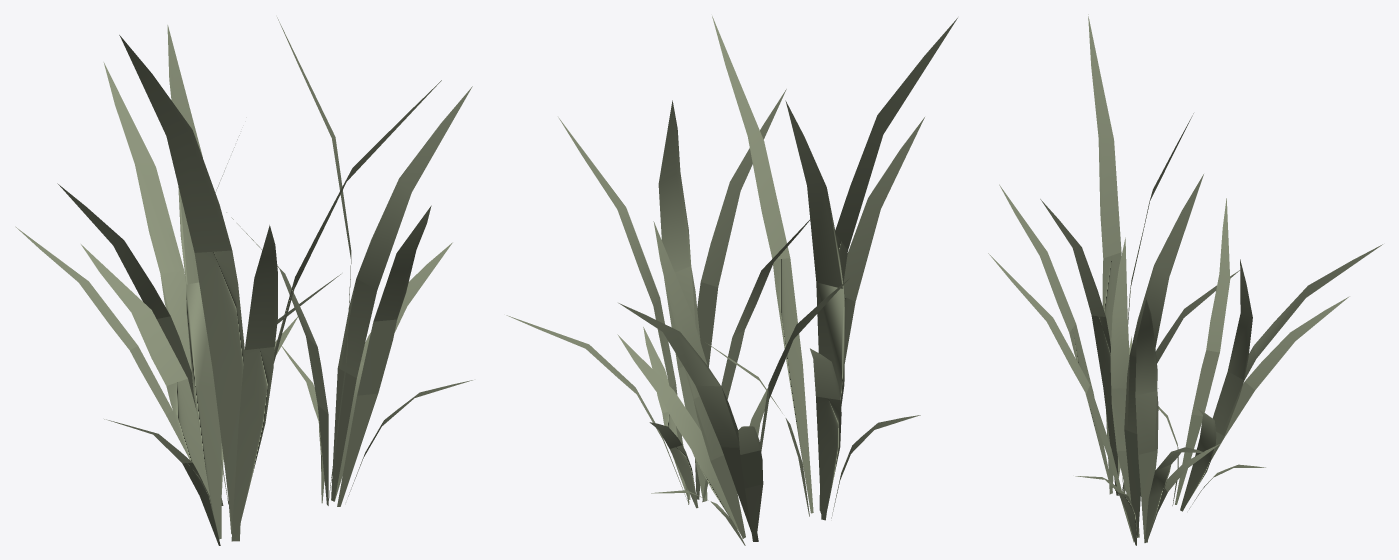
File: mesh136__b29471fd_cef1_1544_8682_05ea9859b70e__0_lev1.glb
3 views of the same model, side by side, from view 1: azimuth 30°, elevation 25°; view 2: azimuth 150°, elevation 25°; view 3: azimuth 270°, elevation 25° (orthographic). The views are drawn at different scales.
Visible parts, largest first — view 1: mesh136__b29471fd_cef1_1544_8682_05ea9859b70e__0_lev1; view 2: mesh136__b29471fd_cef1_1544_8682_05ea9859b70e__0_lev1; view 3: mesh136__b29471fd_cef1_1544_8682_05ea9859b70e__0_lev1.
Boxes of the visible parts, left/top/right/bottom form: mesh136__b29471fd_cef1_1544_8682_05ea9859b70e__0_lev1: left=15, top=17, right=472, bottom=545; mesh136__b29471fd_cef1_1544_8682_05ea9859b70e__0_lev1: left=506, top=16, right=957, bottom=545; mesh136__b29471fd_cef1_1544_8682_05ea9859b70e__0_lev1: left=988, top=14, right=1382, bottom=545.
Bounding box in the file's own units: 5.03 × 6.55 × 5.41.
